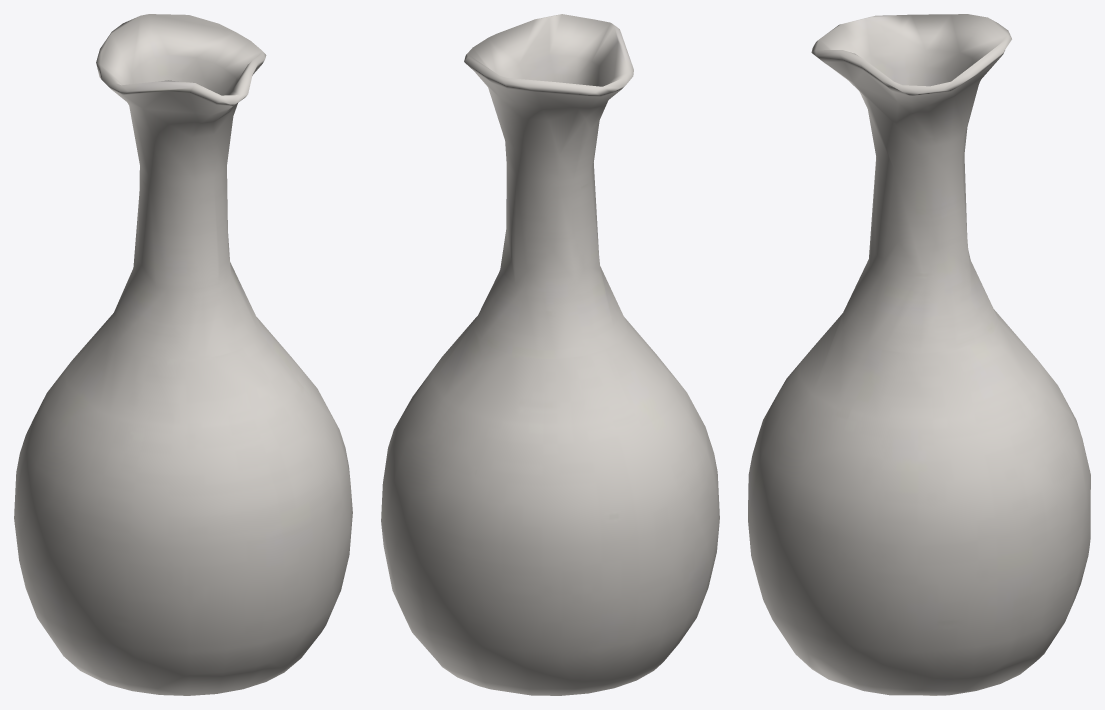
File: vase.glb
3 views of the same model, side by side, from view 1: azimuth 30°, elevation 25°; view 2: azimuth 150°, elevation 25°; view 3: azimuth 270°, elevation 25° (orthographic).
Parts seen in each view (by area): view 1: vase; view 2: vase; view 3: vase.
Part boxes in pixels (box(x1,y1,x2,y2)): vase: box(14, 14, 352, 695); vase: box(381, 14, 719, 695); vase: box(748, 14, 1090, 695).
Size of the model in its own units: 0.2022 by 0.4003 by 0.2018.
1 material, 1 textured.
